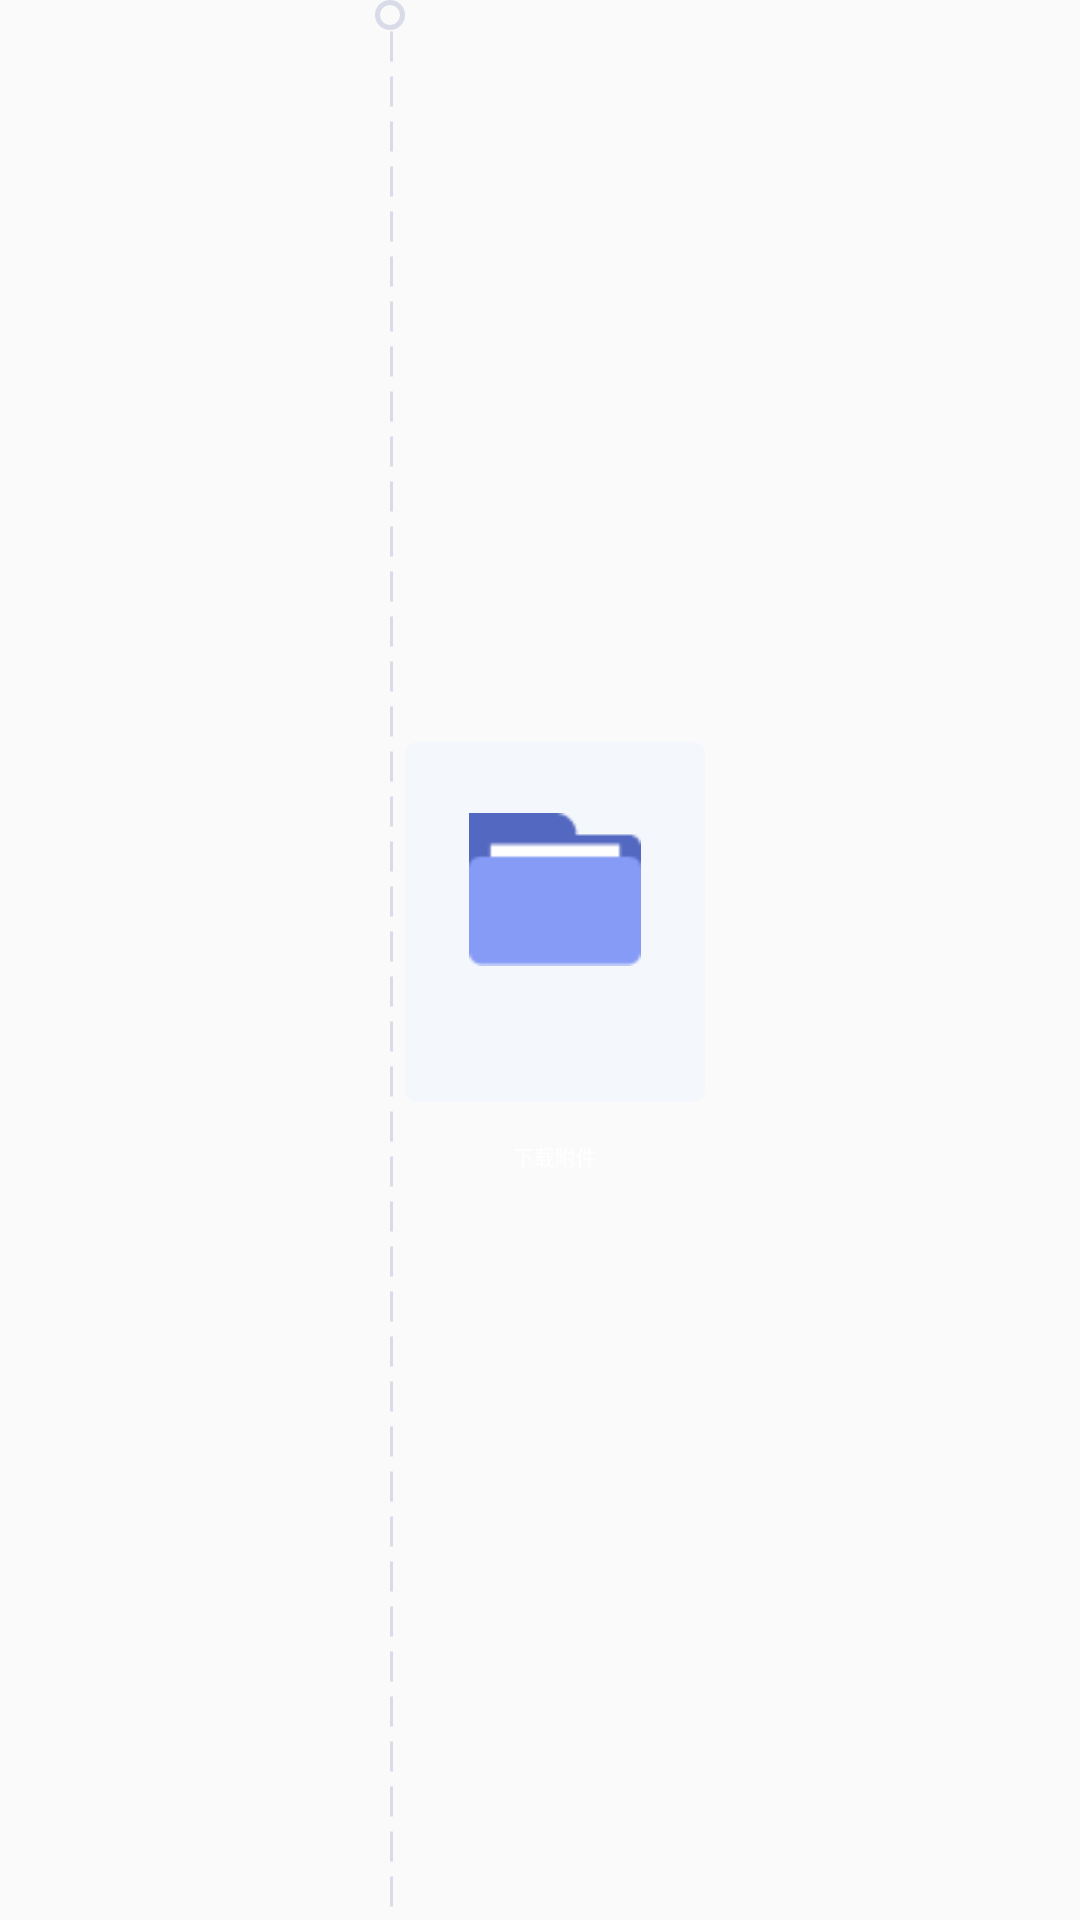

Where icons sit on this 1080 × 1920 app screen, as (x1, y1, x2, y2):
file: (469, 813, 641, 966)
